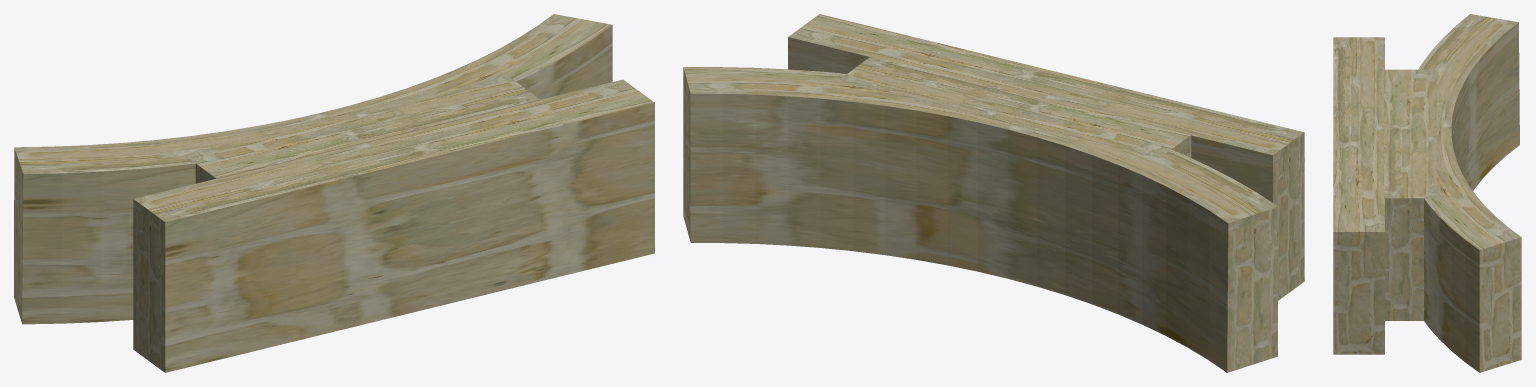
Rendered from 图书馆1.glb.
3 views of the same model, side by side, from view 1: azimuth 30°, elevation 25°; view 2: azimuth 150°, elevation 25°; view 3: azimuth 270°, elevation 25° (orthographic). The views are drawn at different scales.
Visible parts, largest first — view 1: 立方体.001, 立方体, 立方体.002; view 2: 立方体, 立方体.001, 立方体.002; view 3: 立方体, 立方体.001, 立方体.002.
Boxes of the visible parts, x1=… form: 立方体.001: x1=133, y1=79, x2=654, y2=372; 立方体: x1=14, y1=14, x2=612, y2=324; 立方体.002: x1=184, y1=76, x2=540, y2=183; 立方体: x1=683, y1=67, x2=1278, y2=372; 立方体.001: x1=788, y1=14, x2=1304, y2=300; 立方体.002: x1=839, y1=56, x2=1191, y2=157; 立方体: x1=1418, y1=14, x2=1521, y2=372; 立方体.001: x1=1333, y1=37, x2=1384, y2=354; 立方体.002: x1=1384, y1=69, x2=1436, y2=320.
Size of the model in its own units: 21.64 by 5.26 by 7.28.
3 materials, 3 textured.
